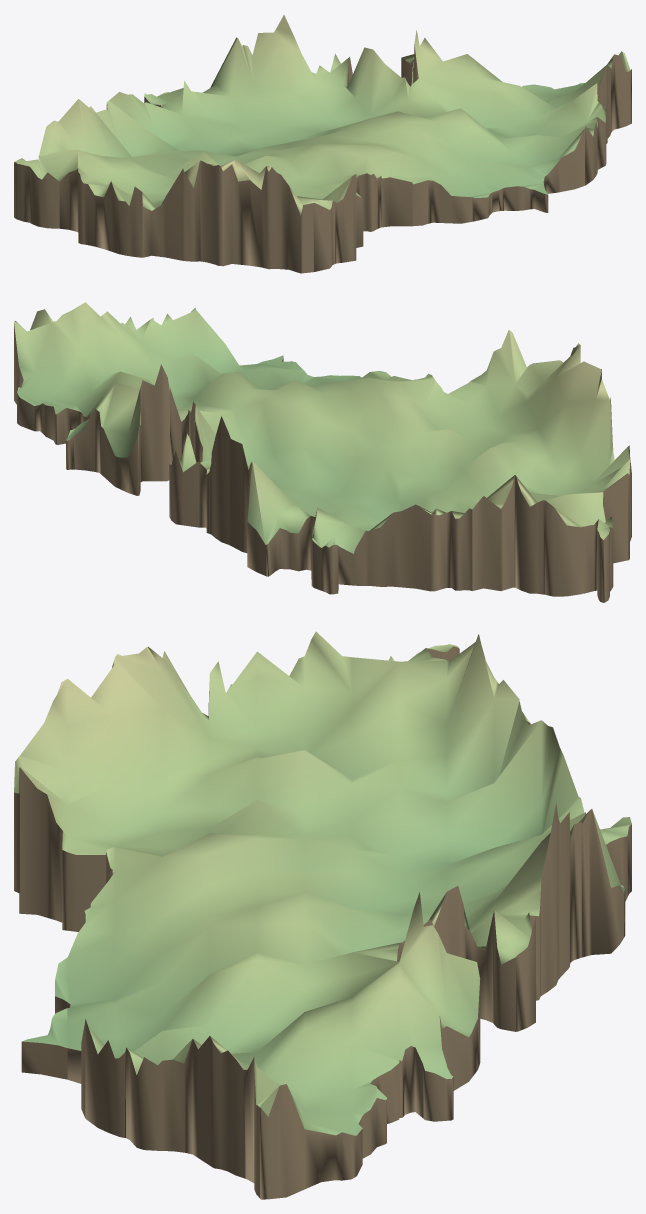
File: CZE.glb
3 renders of one model, top to bottom at view 1: azimuth 30°, elevation 25°; view 2: azimuth 150°, elevation 25°; view 3: azimuth 270°, elevation 25°, orthographic. The views are drawn at different scales.
Parts seen in each view (by area): view 1: CZE; view 2: CZE; view 3: CZE.
Part boxes in pixels (bbox=[...]): CZE: bbox=[14, 15, 631, 273]; CZE: bbox=[14, 302, 631, 602]; CZE: bbox=[14, 631, 631, 1199].
Bounding box in the file's own units: 1.83 × 0.338 × 1.04.
